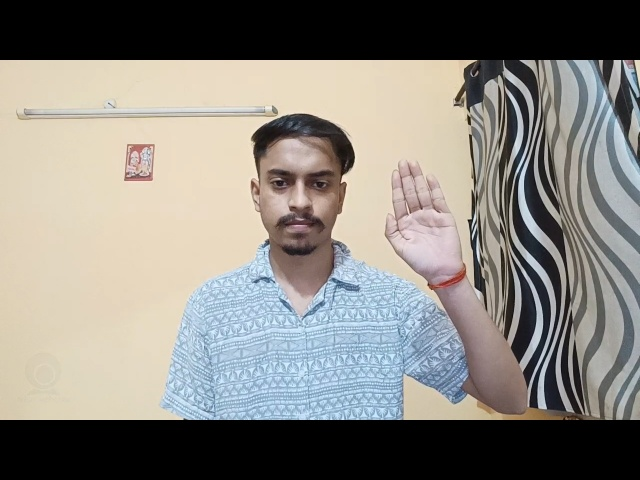Hello: (381, 153, 462, 294)
